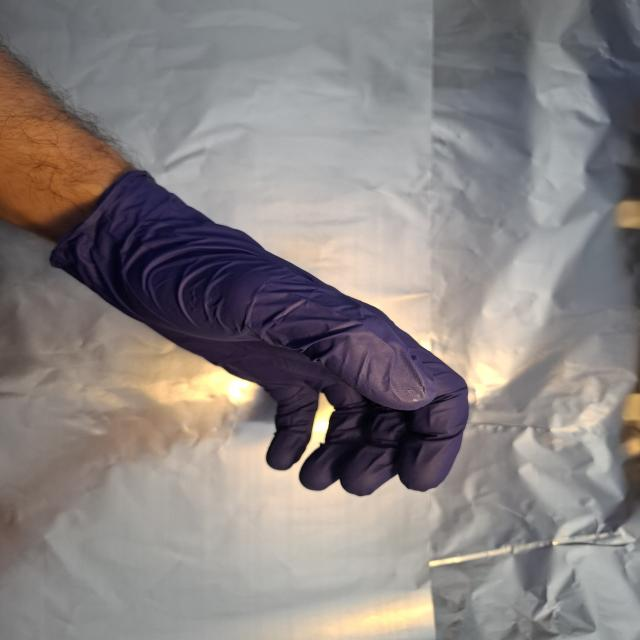glove_on: (56, 173, 474, 500)
